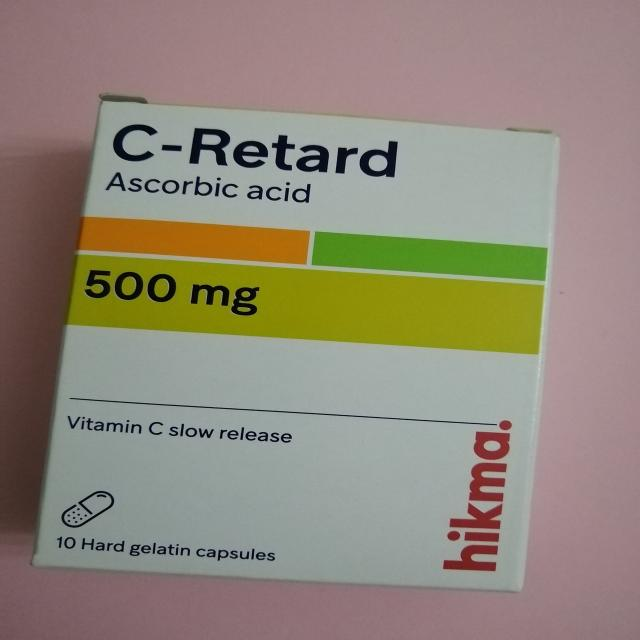C-Retard: (43, 84, 564, 609)
